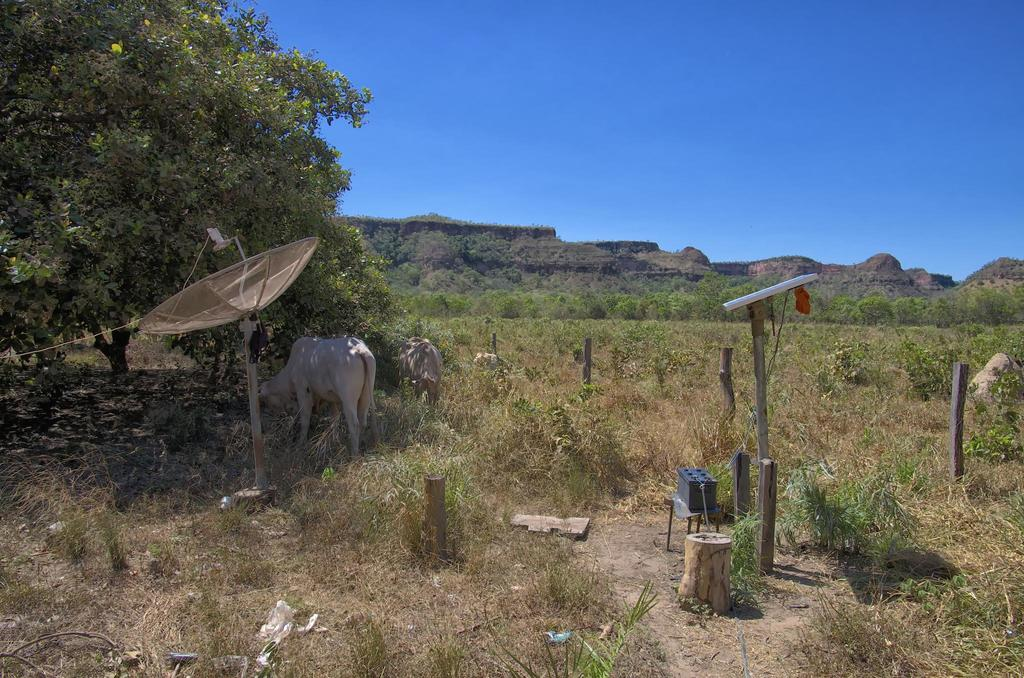Animal: (256, 339, 376, 459), (396, 336, 437, 404)
